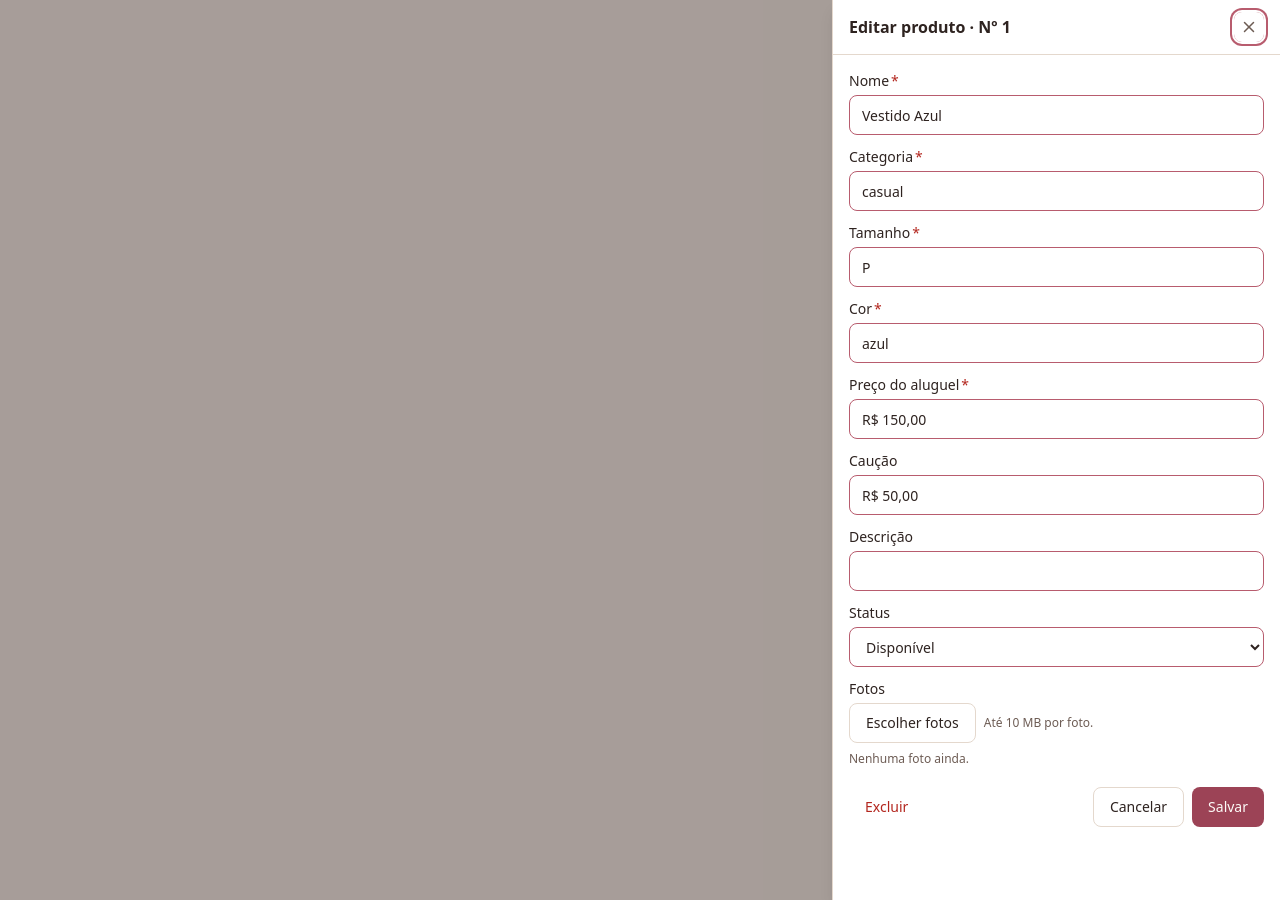
Test case: ProductDrawer › prompts when only the status was changed
Select "Manutenção" in the dropdown labelled "Status": (1056, 647) [849, 627, 1264, 667]
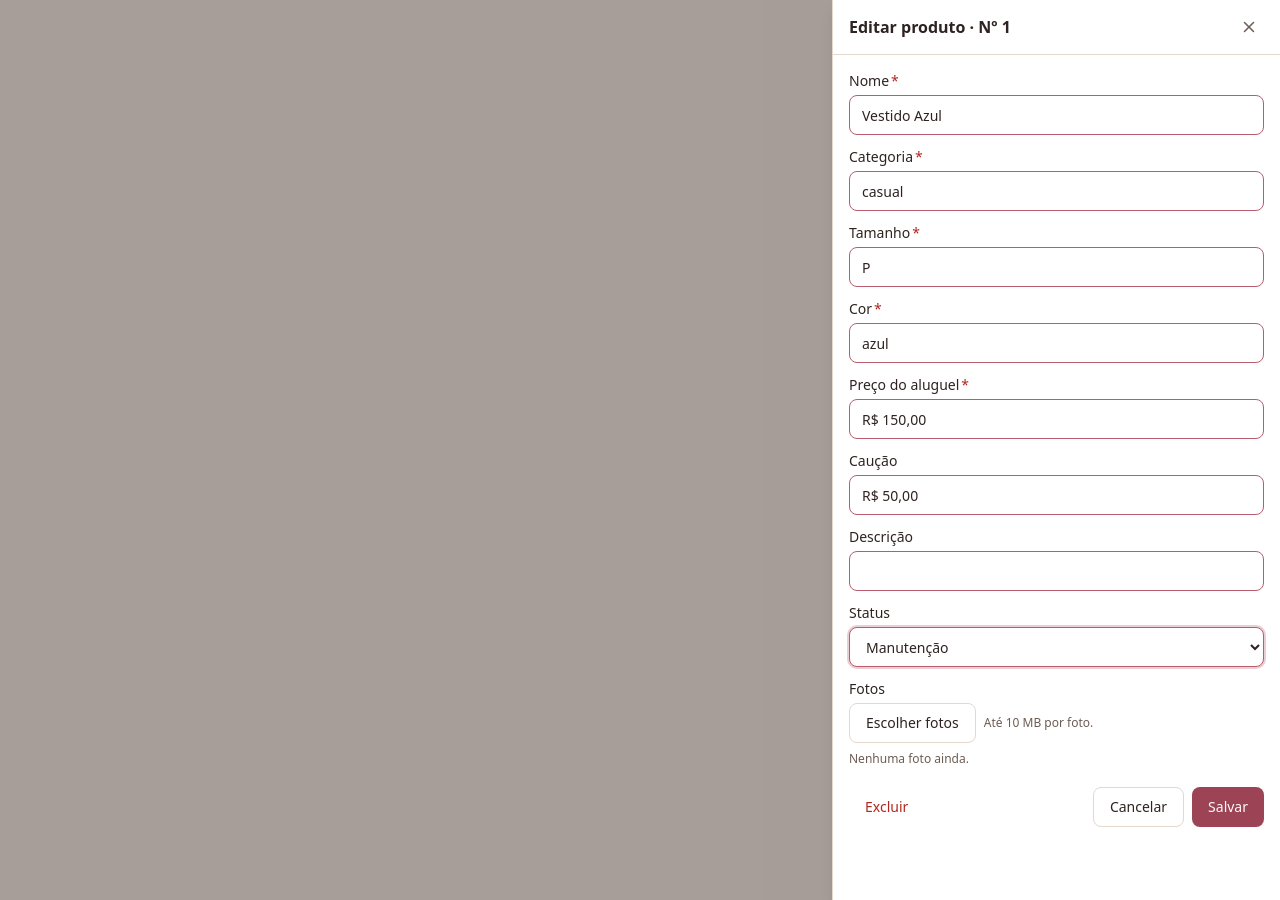
Click the button "Cancelar": (1138, 807) [1093, 787, 1184, 827]
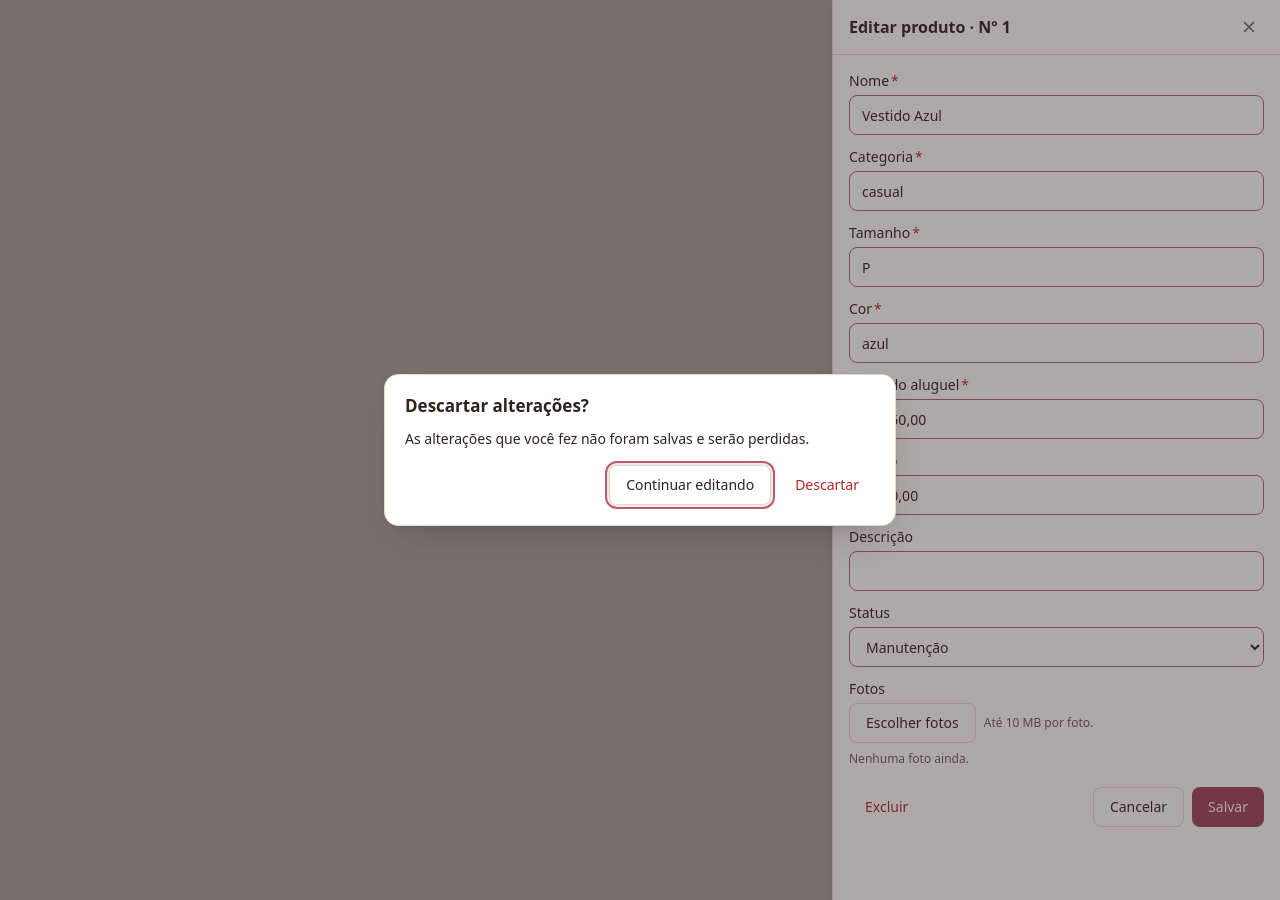
Expected: the heading "Descartar alterações?" is shown, [405, 394, 589, 417]
